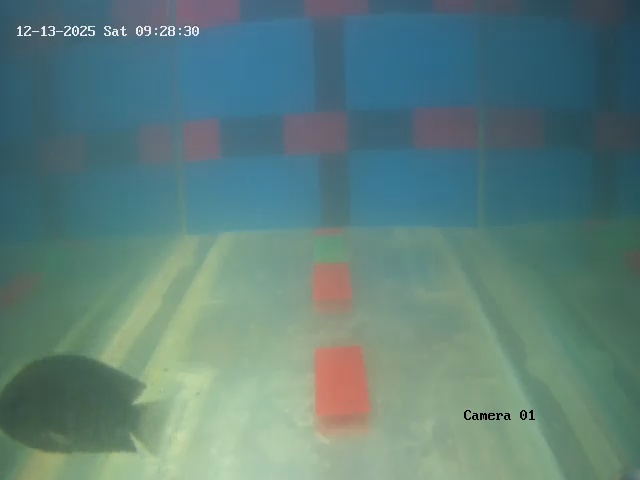fish: (4, 346, 146, 458)
